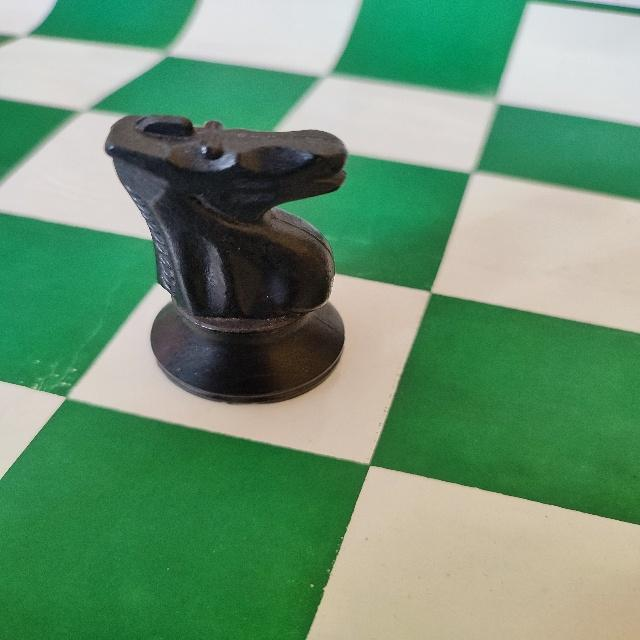Knight: (102, 110, 359, 409)
